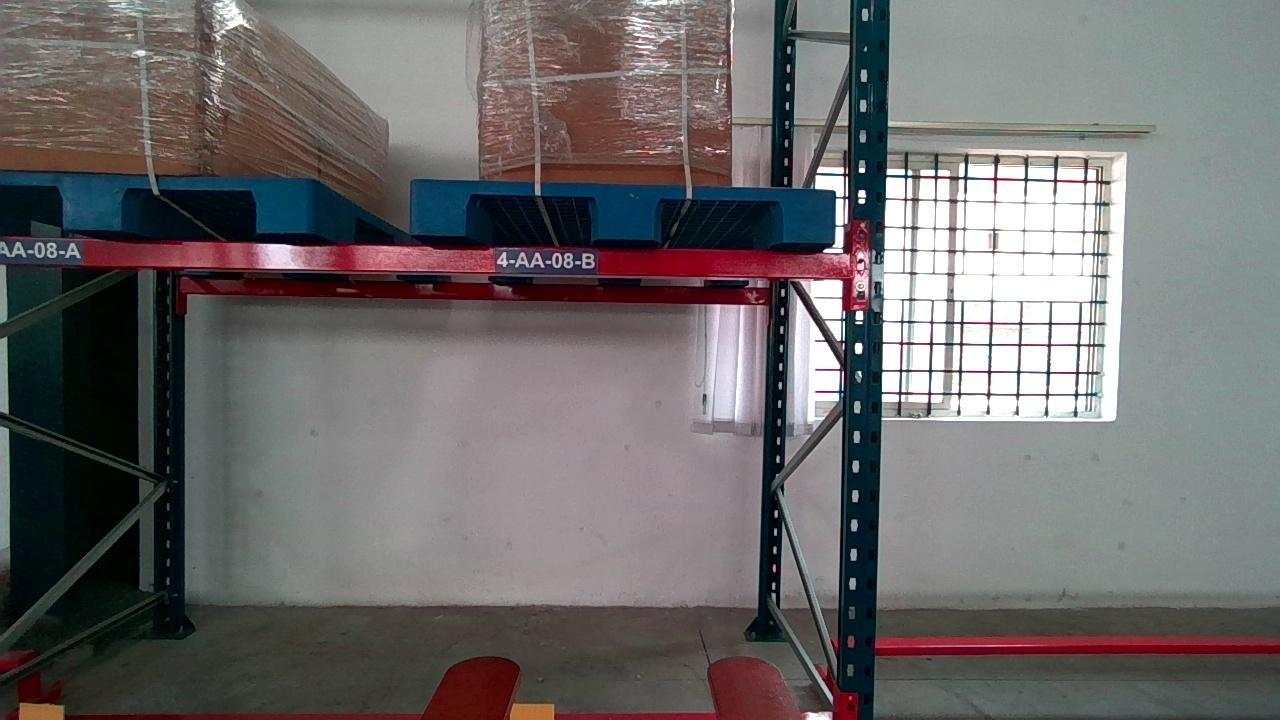h_rack: (12, 236, 851, 280)
small_pallet: (411, 180, 834, 252), (3, 172, 318, 243)
